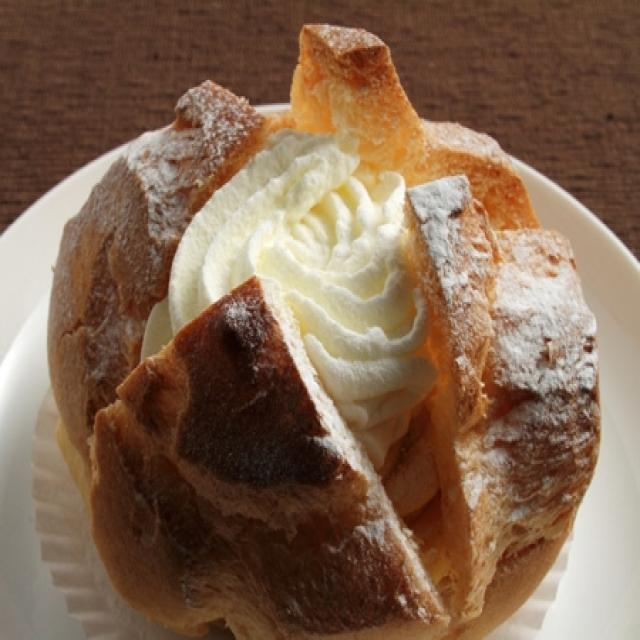炸货点心: (23, 16, 613, 626)
蛋糕甜品: (23, 16, 613, 626)
